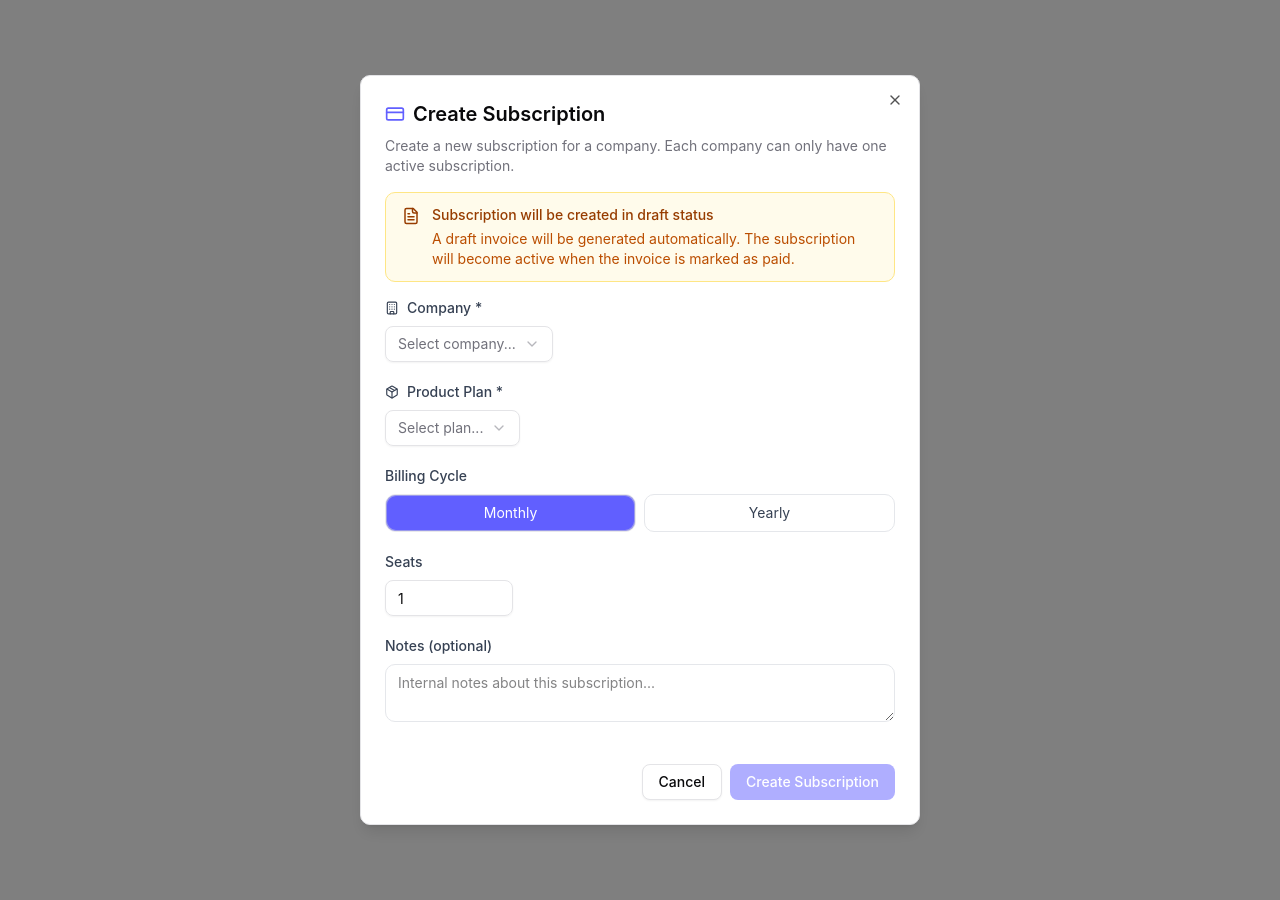
Scenario: CreateSubscriptionDialog › Seats Input › should allow interaction with seats input
Can interact with it
Type "5" into the number field labelled "Seats".
click(449, 598); type("5")  # box [385, 580, 513, 616]
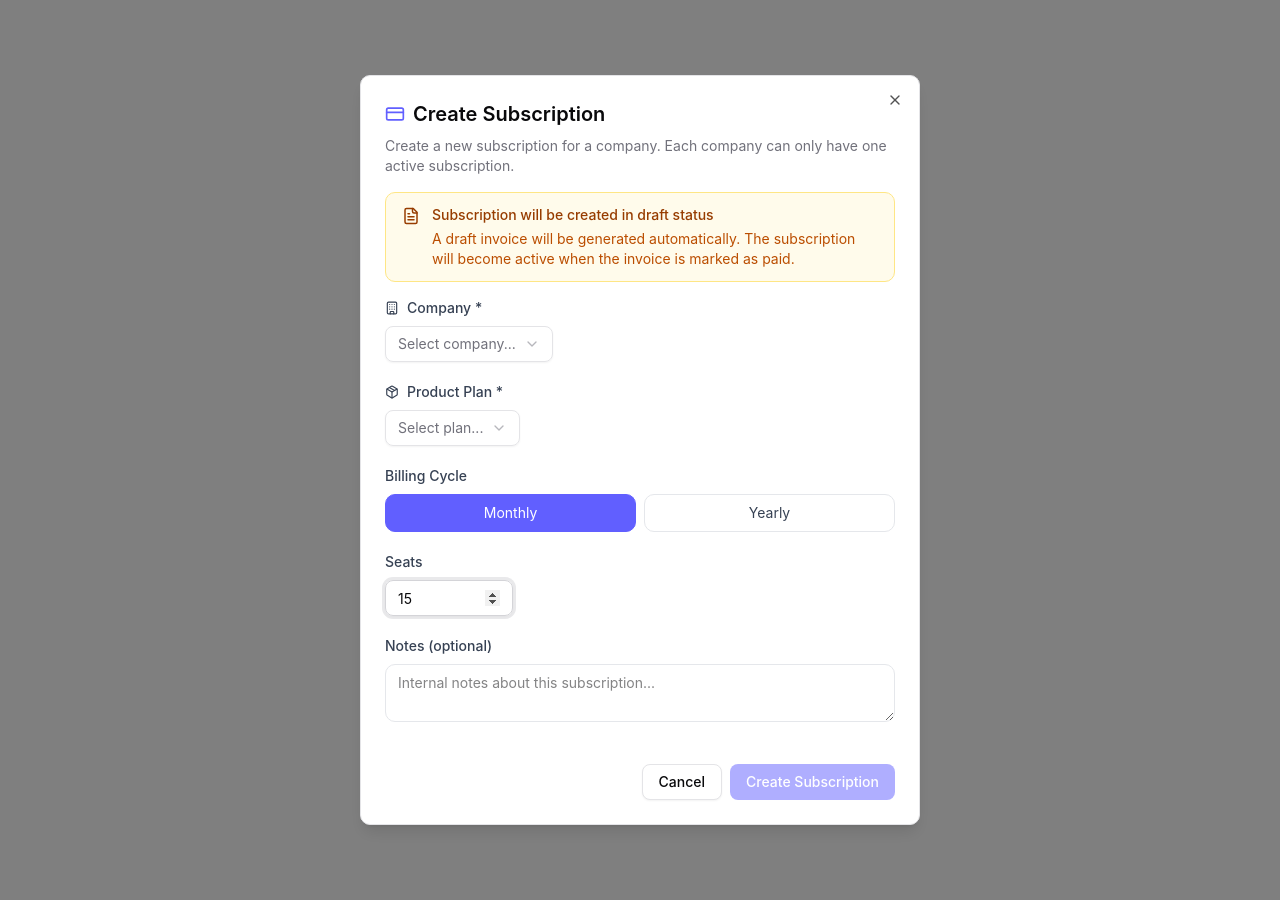
Check: the number field labelled "Seats" does not hold "1", box [385, 580, 513, 616]
